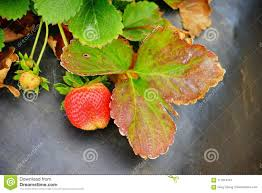ripe: (56, 75, 120, 137)
unripe: (22, 61, 44, 96)
